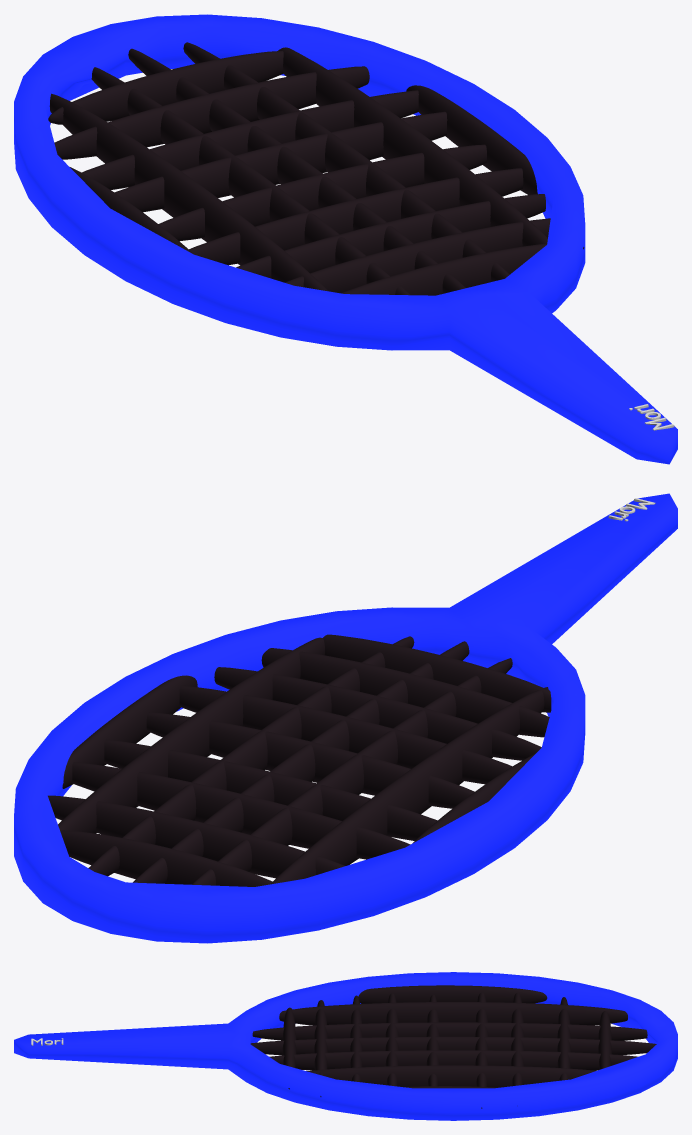
The model's file is tennisRacket.fbx.
3 renders of one model, top to bottom at view 1: azimuth 30°, elevation 25°; view 2: azimuth 150°, elevation 25°; view 3: azimuth 270°, elevation 25°, orthographic. The views are drawn at different scales.
Visible parts, largest first — view 1: 円柱, 球.014, 球.015, 球.005, 球, 球.002, 球.006, 球.001, 真ん中, 球.003, 球.004, 球.013 (+2 smaller); view 2: 円柱, 球.014, 球.015, 球.006, 球.002, 球, 球.005, 球.001, 球.007, 真ん中, 球.003, 球.013 (+2 smaller); view 3: 円柱, 球.014, 球.015, 真ん中, 球.013, 球.006, 球, 球.002, 球.005, 球.007, 球.001, 球.003 (+2 smaller).
Part boxes in pixels (left/top/right/bottom): 円柱: left=14, top=14, right=677, bottom=464; 球.014: left=49, top=47, right=547, bottom=291; 球.015: left=91, top=42, right=509, bottom=295; 球.005: left=54, top=66, right=369, bottom=159; 球: left=114, top=111, right=447, bottom=212; 球.002: left=189, top=168, right=523, bottom=265; 球.006: left=82, top=90, right=418, bottom=189; 球.001: left=158, top=144, right=486, bottom=241; 真ん中: left=128, top=48, right=465, bottom=293; 球.003: left=236, top=194, right=545, bottom=278; 球.004: left=48, top=51, right=283, bottom=124; 球.013: left=70, top=85, right=537, bottom=254; 円柱: left=14, top=493, right=677, bottom=943; 球.014: left=58, top=637, right=548, bottom=884; 球.015: left=88, top=636, right=512, bottom=885; 球.006: left=72, top=762, right=410, bottom=859; 球.002: left=179, top=685, right=512, bottom=784; 球: left=104, top=739, right=437, bottom=840; 球.005: left=48, top=795, right=344, bottom=878; 球.001: left=146, top=712, right=474, bottom=808; 球.007: left=261, top=648, right=549, bottom=737; 真ん中: left=133, top=641, right=469, bottom=883; 球.003: left=214, top=667, right=541, bottom=760; 球.013: left=62, top=675, right=535, bottom=843; 円柱: left=14, top=972, right=677, bottom=1120; 球.014: left=279, top=1002, right=627, bottom=1087; 球.015: left=252, top=1022, right=647, bottom=1070; 真ん中: left=250, top=1036, right=656, bottom=1055; 球.013: left=358, top=985, right=547, bottom=1088; 球.006: left=510, top=992, right=524, bottom=1086; 球: left=475, top=992, right=488, bottom=1108; 球.002: left=385, top=993, right=398, bottom=1086; 球.005: left=557, top=997, right=570, bottom=1080; 球.007: left=314, top=1000, right=327, bottom=1096; 球.001: left=426, top=994, right=439, bottom=1086; 球.003: left=350, top=995, right=362, bottom=1082.
Size of the model in its own units: 200 by 20.86 by 450.
